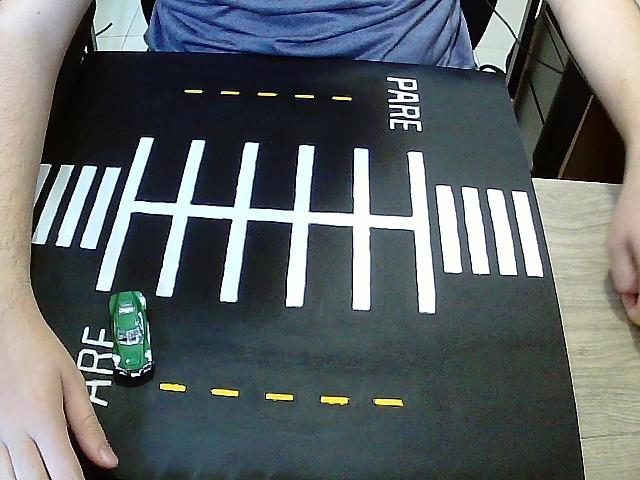Carro: (110, 291, 153, 378)
